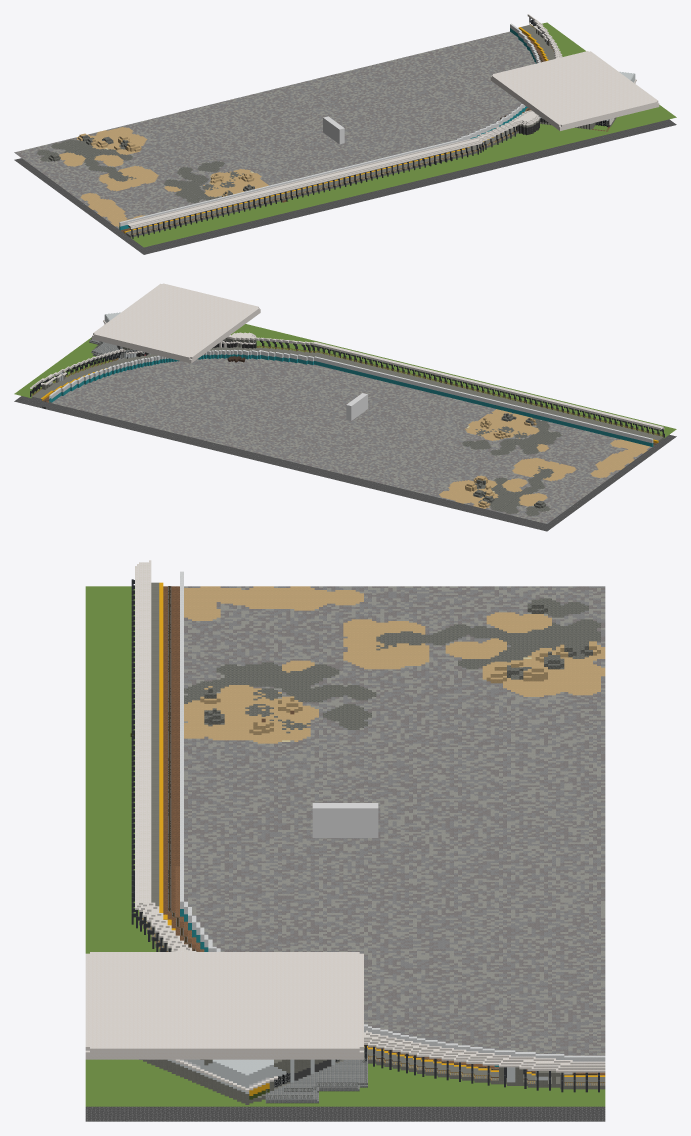
File: Pedro Nolasco.fbx
3 renders of one model, top to bottom at view 1: azimuth 30°, elevation 25°; view 2: azimuth 150°, elevation 25°; view 3: azimuth 270°, elevation 25°, orthographic. The views are drawn at different scales.
Parts seen in each view (by area): view 1: chisel_block_layer_light_gray_concrete, minecraft_block_andesite.003, minecraft_block_andesite.006, minecraft_block_andesite, chisel_block_layer_light_gray_concrete.001, create_block_station, minecraft_block_andesite.002, createdeco_block_palettes_catwalks_brass_catwalk_rail_proxy., minecraft_block_iron_door_bottom; view 2: createdeco_block_palettes_catwalks_brass_catwalk_rail_proxy., minecraft_block_andesite.003, minecraft_block_andesite.006, minecraft_block_andesite, chisel_block_layer_light_gray_concrete.001, create_block_station, minecraft_block_andesite.002, chisel_block_layer_light_gray_concrete; view 3: createdeco_block_palettes_catwalks_brass_catwalk_rail_proxy., chisel_block_layer_light_gray_concrete, minecraft_block_andesite.003, minecraft_block_andesite.006, minecraft_block_andesite, create_block_station, minecraft_block_andesite.002, chisel_block_layer_light_gray_concrete.001, minecraft_block_iron_door_bottom.
Boxes of the visible parts, box(x1,y1,x2,y2) form: chisel_block_layer_light_gray_concrete: box(497, 59, 676, 154); minecraft_block_andesite.003: box(283, 52, 495, 138); minecraft_block_andesite.006: box(142, 87, 354, 173); minecraft_block_andesite: box(14, 121, 212, 212); chisel_block_layer_light_gray_concrete.001: box(355, 104, 554, 189); create_block_station: box(213, 139, 412, 223); minecraft_block_andesite.002: box(86, 173, 270, 254); createdeco_block_palettes_catwalks_brass_catwalk_rail_proxy.: box(425, 14, 600, 104); minecraft_block_iron_door_bottom: box(323, 116, 344, 144); createdeco_block_palettes_catwalks_brass_catwalk_rail_proxy.: box(14, 325, 207, 430); minecraft_block_andesite.003: box(136, 371, 346, 465); minecraft_block_andesite.006: box(278, 409, 490, 500); minecraft_block_andesite: box(420, 440, 618, 531); chisel_block_layer_light_gray_concrete.001: box(208, 329, 407, 404); create_block_station: box(366, 361, 548, 440); minecraft_block_andesite.002: box(491, 395, 676, 478); chisel_block_layer_light_gray_concrete: box(86, 283, 265, 371); createdeco_block_palettes_catwalks_brass_catwalk_rail_proxy.: box(319, 952, 605, 1121); chisel_block_layer_light_gray_concrete: box(85, 952, 318, 1121); minecraft_block_andesite.003: box(319, 849, 605, 987); minecraft_block_andesite.006: box(319, 711, 605, 848); minecraft_block_andesite: box(319, 586, 605, 710); create_block_station: box(85, 685, 318, 848); minecraft_block_andesite.002: box(85, 560, 318, 710); chisel_block_layer_light_gray_concrete.001: box(85, 823, 318, 953); minecraft_block_iron_door_bottom: box(312, 803, 378, 837).
Bounding box in the file's own units: 30100 × 1900 × 12700.
Materials: 63 (58 with a texture image).
